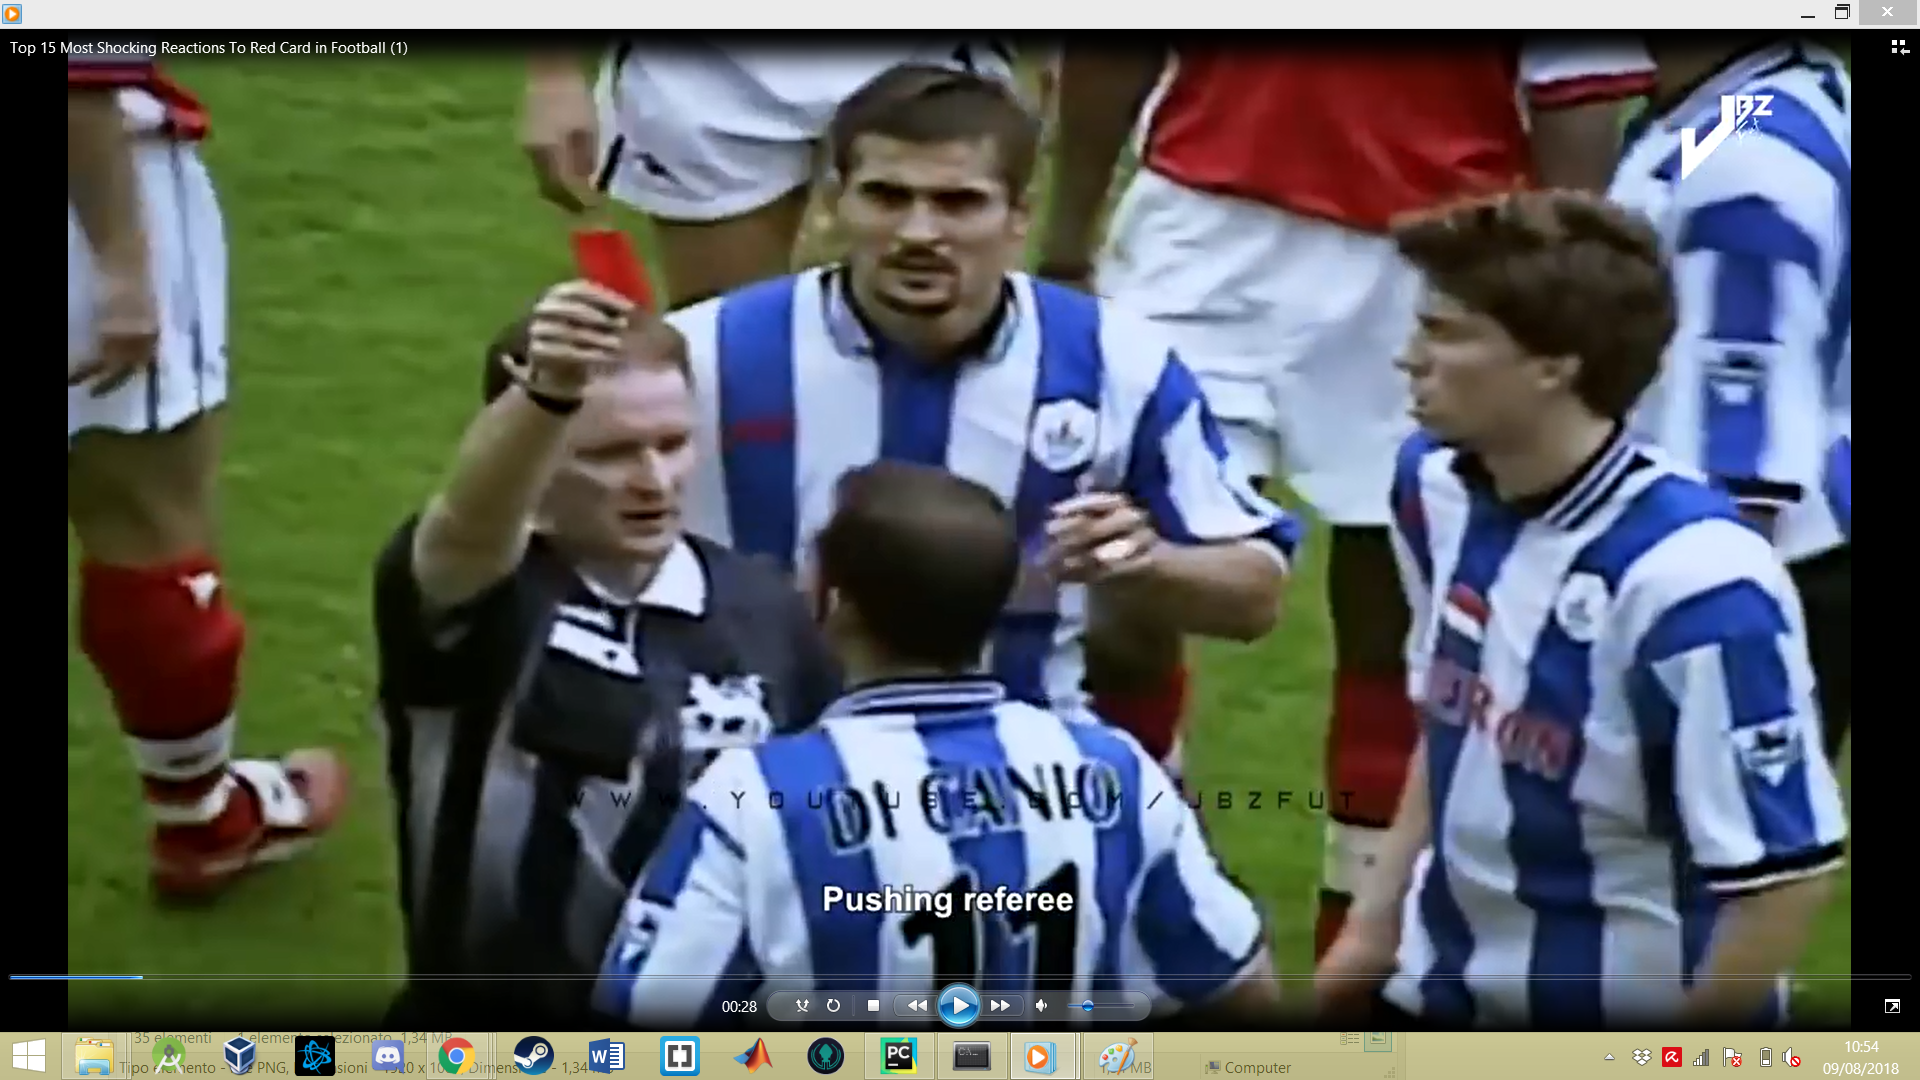red_card: (495, 216, 665, 382)
